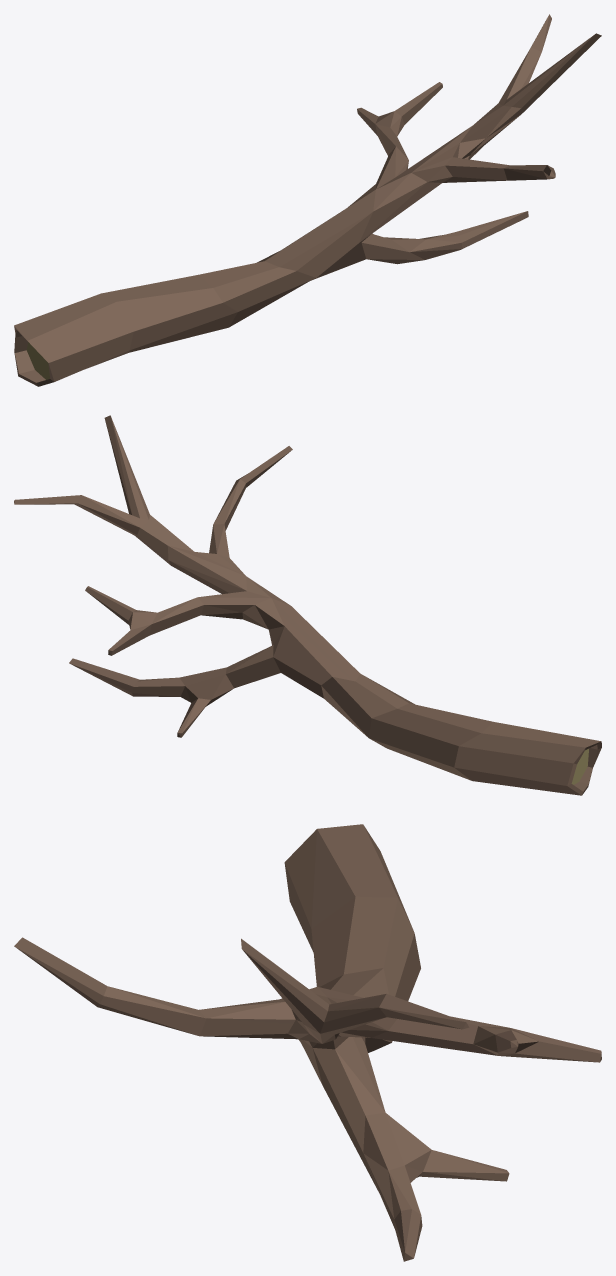
Rendered from obstaculo_bosque_tronco.fbx.
The picture shows the model from 3 angles, top to bottom: view 1: azimuth 30°, elevation 25°; view 2: azimuth 150°, elevation 25°; view 3: azimuth 270°, elevation 25°; orthographic projection. The views are drawn at different scales.
Parts seen in each view (by area): view 1: obstaculo_bosque_tronco:Mesh; view 2: obstaculo_bosque_tronco:Mesh; view 3: obstaculo_bosque_tronco:Mesh.
Part boxes in pixels (x1,y1,x2,y2): obstaculo_bosque_tronco:Mesh: (14,14,601,386); obstaculo_bosque_tronco:Mesh: (14,415,601,795); obstaculo_bosque_tronco:Mesh: (14,824,601,1261).
Size of the model in its own units: 9.63 by 3.92 by 5.63.
Materials: 1 (1 with a texture image).
